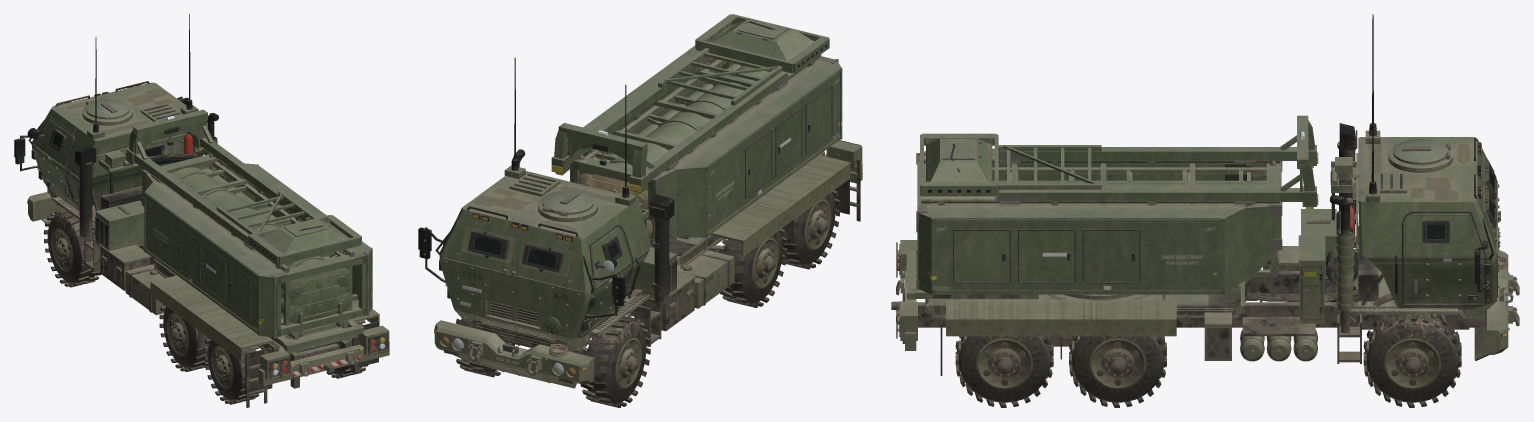
Rendered from l_himars.glb.
3 renders of one model, left to right at view 1: azimuth 30°, elevation 25°; view 2: azimuth 150°, elevation 25°; view 3: azimuth 270°, elevation 25°, orthographic. The views are drawn at different scales.
Parts seen in each view (by area): view 1: pod, body_equip, body_cab, boom, pod_atacms, wheel_1l, wheel_3l, wheel_2l, lid_rA, body_frame, body_base, turn (+5 smaller); view 2: body_cab, pod, boom, body_equip, body_frame, wheel_1l, pod_atacms, wheel_2l, wheel_3l, body_base, det_body_cab, hatch (+4 smaller); view 3: pod, body_equip, body_cab, boom, wheel_1r, body_frame, wheel_3r, wheel_2r, pod_atacms, body_base, turn, hatch (+2 smaller).
Part boxes in pixels (left/top/right/bottom): pod: left=141, top=152, right=372, bottom=338; body_equip: left=74, top=113, right=389, bottom=394; body_cab: left=14, top=81, right=204, bottom=272; boom: left=126, top=109, right=361, bottom=264; pod_atacms: left=161, top=161, right=352, bottom=325; wheel_1l: left=43, top=210, right=101, bottom=287; wheel_3l: left=204, top=337, right=259, bottom=404; wheel_2l: left=159, top=304, right=208, bottom=371; lid_rA: left=291, top=269, right=347, bottom=321; body_frame: left=28, top=192, right=350, bottom=360; body_base: left=153, top=258, right=357, bottom=407; turn: left=269, top=319, right=364, bottom=351; body_cab: left=418, top=165, right=661, bottom=348; pod: left=570, top=34, right=842, bottom=239; boom: left=551, top=14, right=829, bottom=193; body_equip: left=511, top=140, right=862, bottom=331; body_frame: left=434, top=239, right=725, bottom=388; wheel_1l: left=580, top=316, right=650, bottom=407; pod_atacms: left=579, top=59, right=807, bottom=246; wheel_2l: left=719, top=229, right=787, bottom=307; wheel_3l: left=782, top=190, right=839, bottom=269; body_base: left=650, top=151, right=860, bottom=268; det_body_cab: left=423, top=206, right=640, bottom=343; hatch: left=542, top=190, right=593, bottom=214; pod: left=916, top=148, right=1282, bottom=294; body_equip: left=891, top=123, right=1358, bottom=375; body_cab: left=1337, top=130, right=1499, bottom=363; boom: left=920, top=115, right=1318, bottom=206; wheel_1r: left=1363, top=314, right=1461, bottom=407; body_frame: left=916, top=244, right=1516, bottom=360; wheel_3r: left=955, top=336, right=1053, bottom=407; wheel_2r: left=1069, top=336, right=1166, bottom=407; pod_atacms: left=932, top=167, right=1278, bottom=277; body_base: left=925, top=281, right=1244, bottom=318; turn: left=906, top=245, right=1134, bottom=299; hatch: left=1393, top=138, right=1448, bottom=164.
Bounding box in the file's own units: 3.06 × 4.29 × 7.53.
6 materials, 6 textured.
